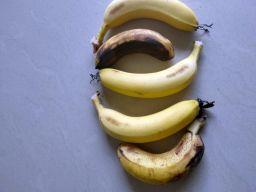banana: (91, 39, 207, 101), (89, 0, 214, 55), (115, 115, 208, 188), (88, 92, 216, 144), (92, 26, 178, 71)
